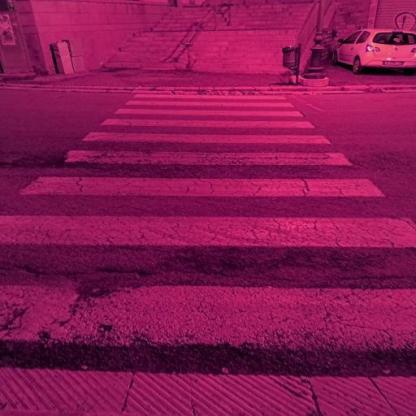crosswalk: (0, 172, 415, 262), (78, 118, 333, 147), (120, 93, 301, 109)
